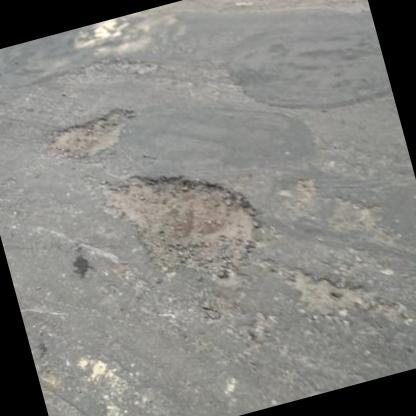pothole: (93, 144, 268, 302), (40, 101, 140, 165)
